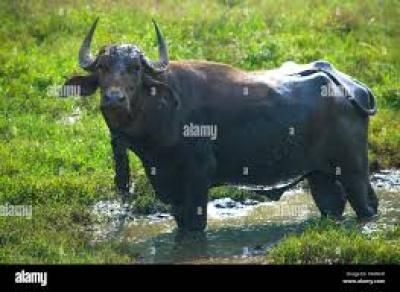buffalo: (59, 19, 377, 235)
